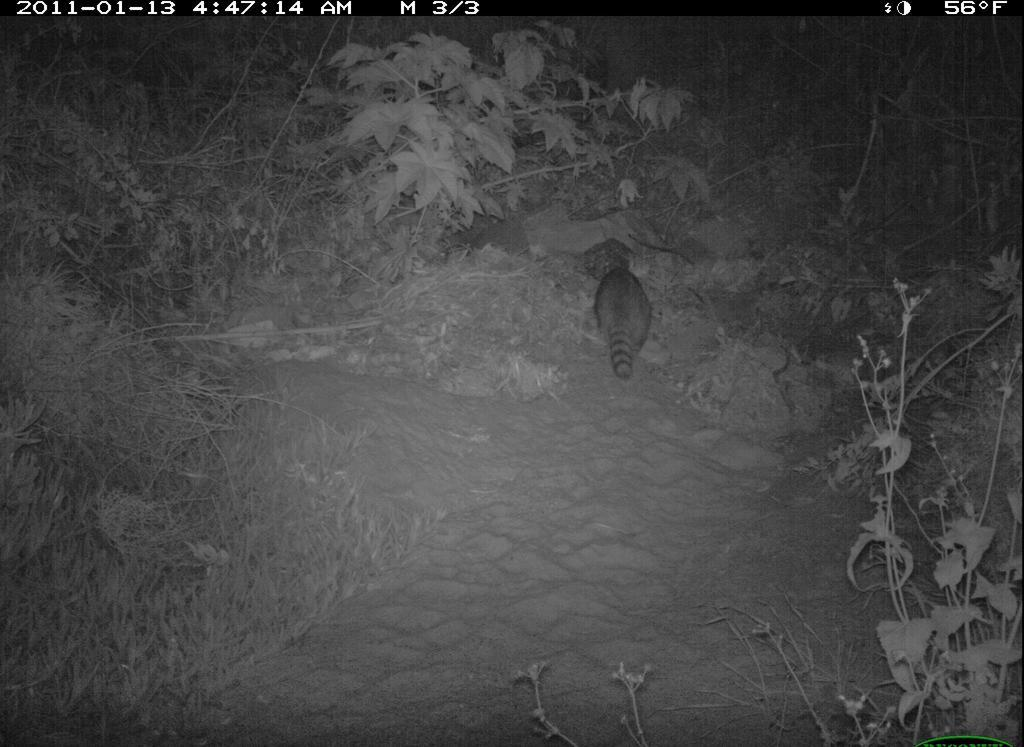raccoon: (566, 255, 673, 387)
